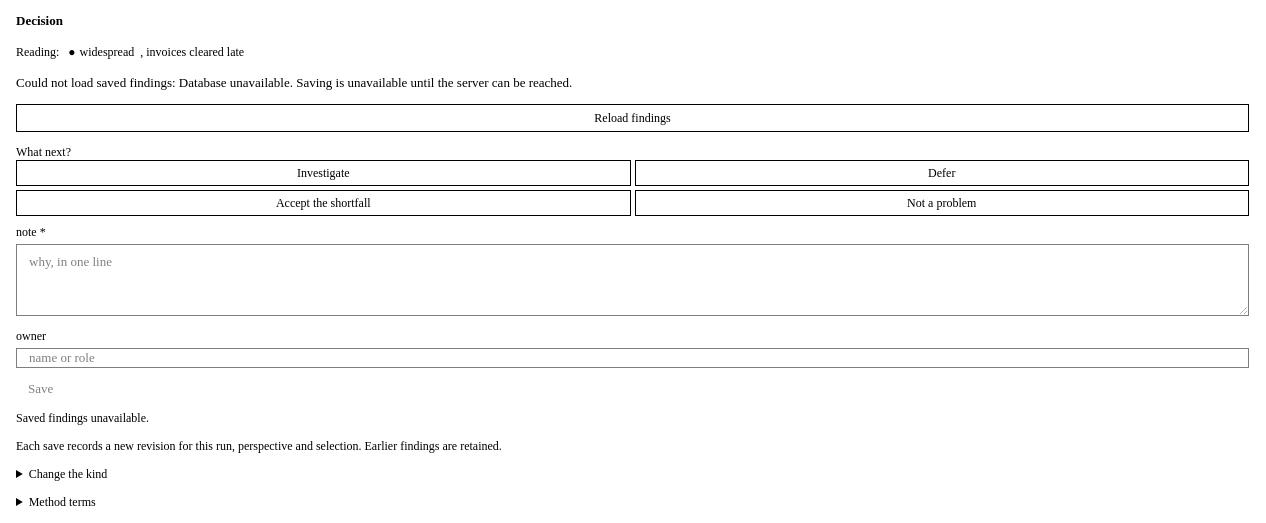
Scenario: server-persisted decision pane › shows load failure, disables saving and retries without falling back to browser data
Expected: the message shows "Database unavailable", [179, 75, 290, 90]
Expected: the button "Save" is disabled, [16, 380, 65, 398]
Click the button "Reload findings".
click(632, 118)  # box [16, 104, 1249, 132]
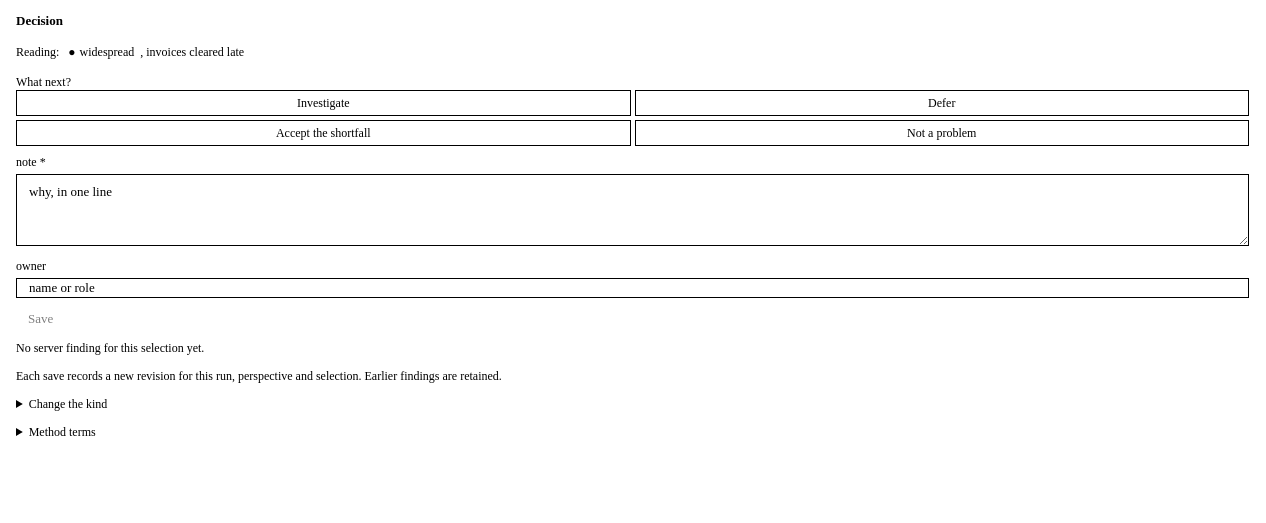
Expected: the text box labelled "note *" is enabled, [16, 174, 1249, 246]
Click the radio button labelled "Investigate".
click(323, 103)  # box [16, 90, 630, 116]
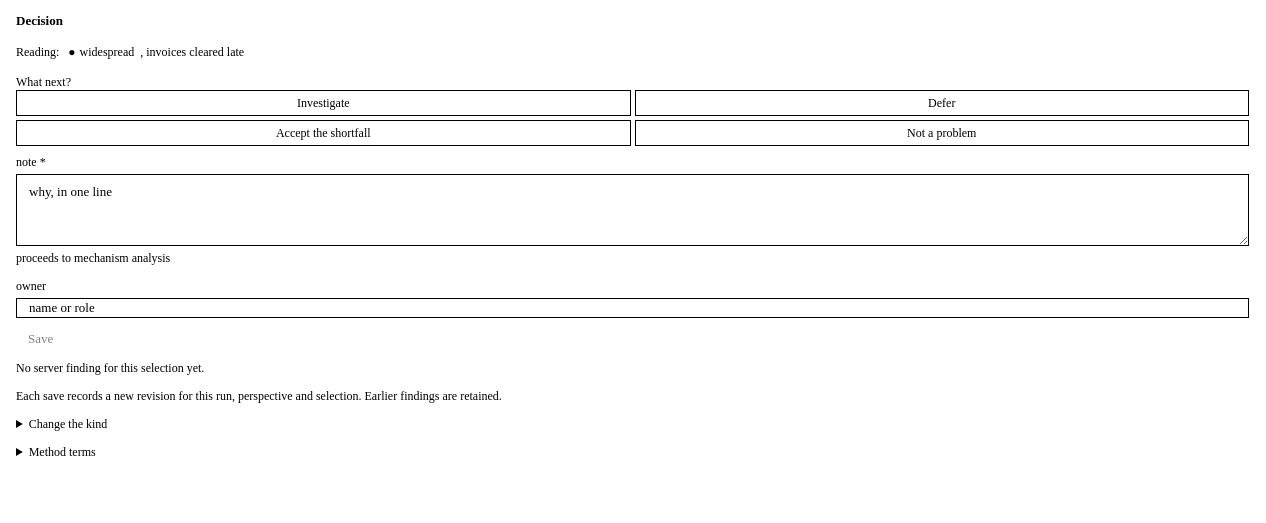
Type "After reconnect" into the text box labelled "note *".
click(632, 210); type("After reconnect")  # box [16, 174, 1249, 246]
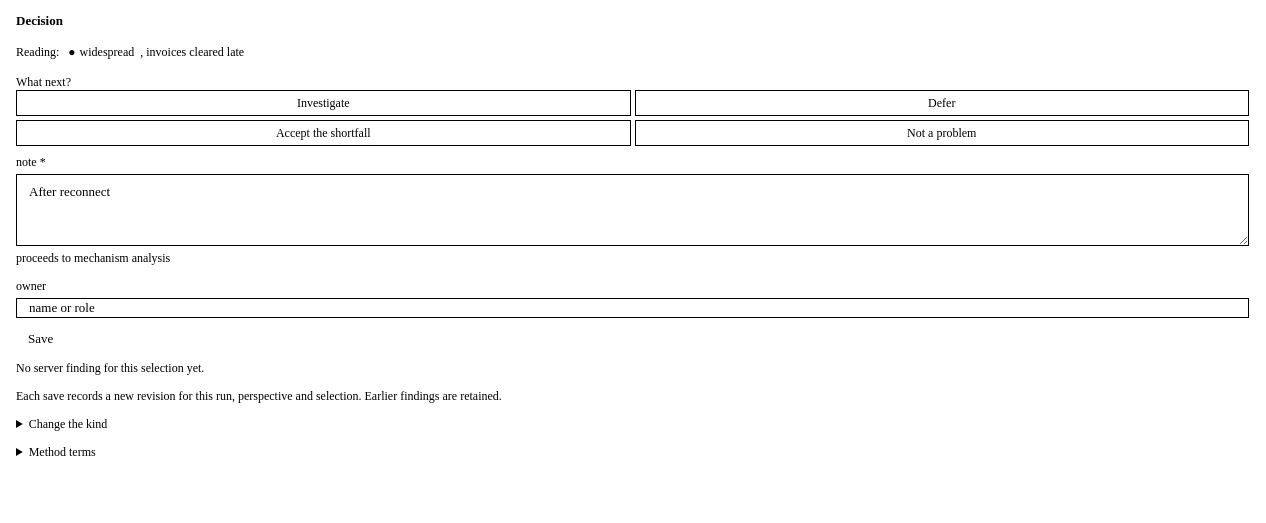
Click the button "Save".
click(41, 339)  # box [16, 330, 65, 348]
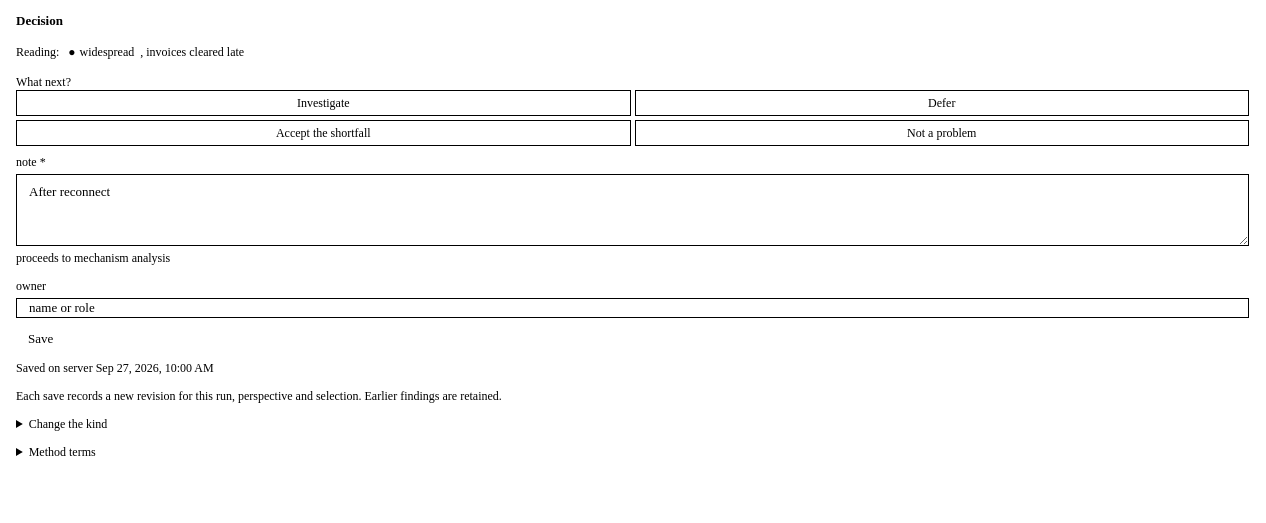
Expected: the text with test id "decision-status" shows "Saved on server", [16, 361, 214, 375]
